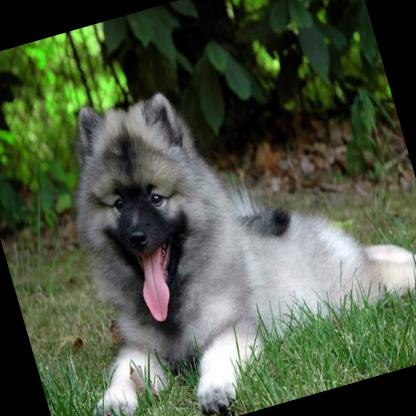keeshond: (12, 26, 416, 416)
